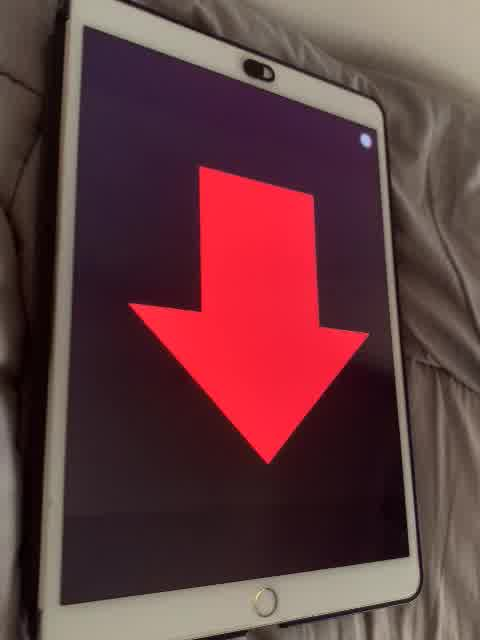down: (115, 162, 371, 468)
